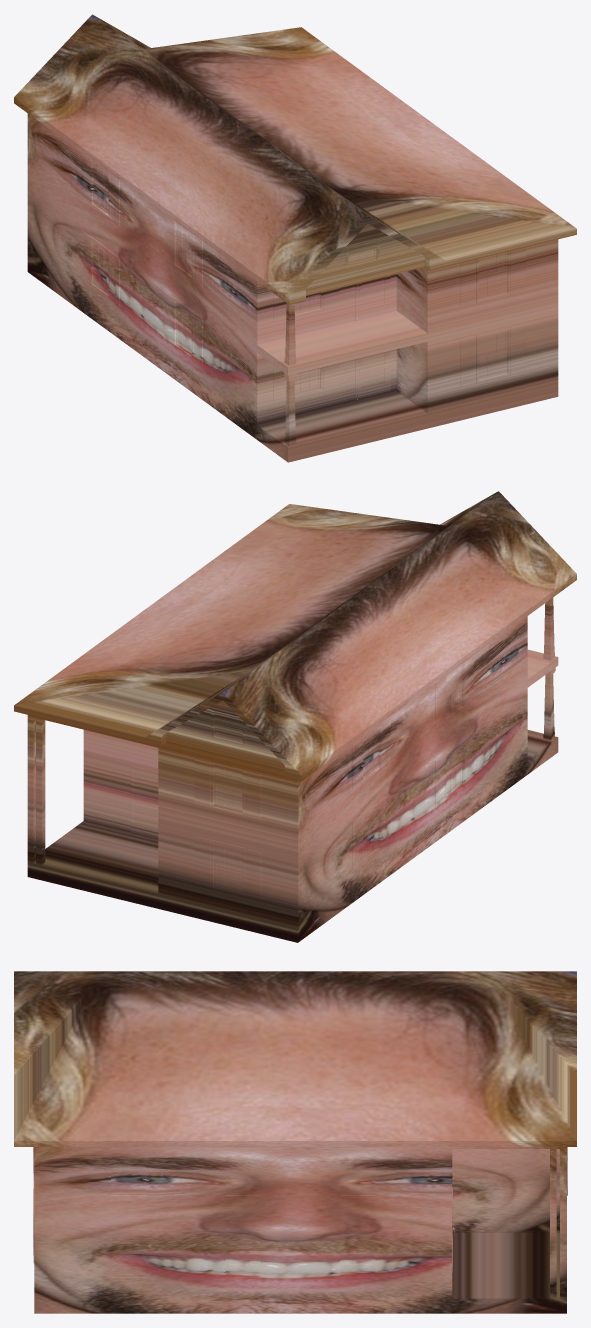
Rendered from kroeger-plex.glb.
3 views of the same model, one above another, from view 1: azimuth 30°, elevation 25°; view 2: azimuth 150°, elevation 25°; view 3: azimuth 270°, elevation 25° (orthographic). The views are drawn at different scales.
Parts seen in each view (by area): view 1: KroegerPlex; view 2: KroegerPlex; view 3: KroegerPlex.
Boxes of the visible parts, <box> form: KroegerPlex: <box>14,14,576,462</box>; KroegerPlex: <box>14,491,576,942</box>; KroegerPlex: <box>14,971,576,1313</box>.
Bounding box in the file's own units: 11.07 × 8.71 × 18.36.
Materials: 1 (1 with a texture image).
